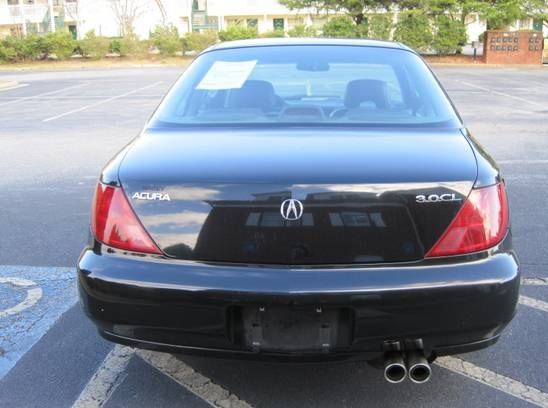acura: (78, 31, 523, 391)
